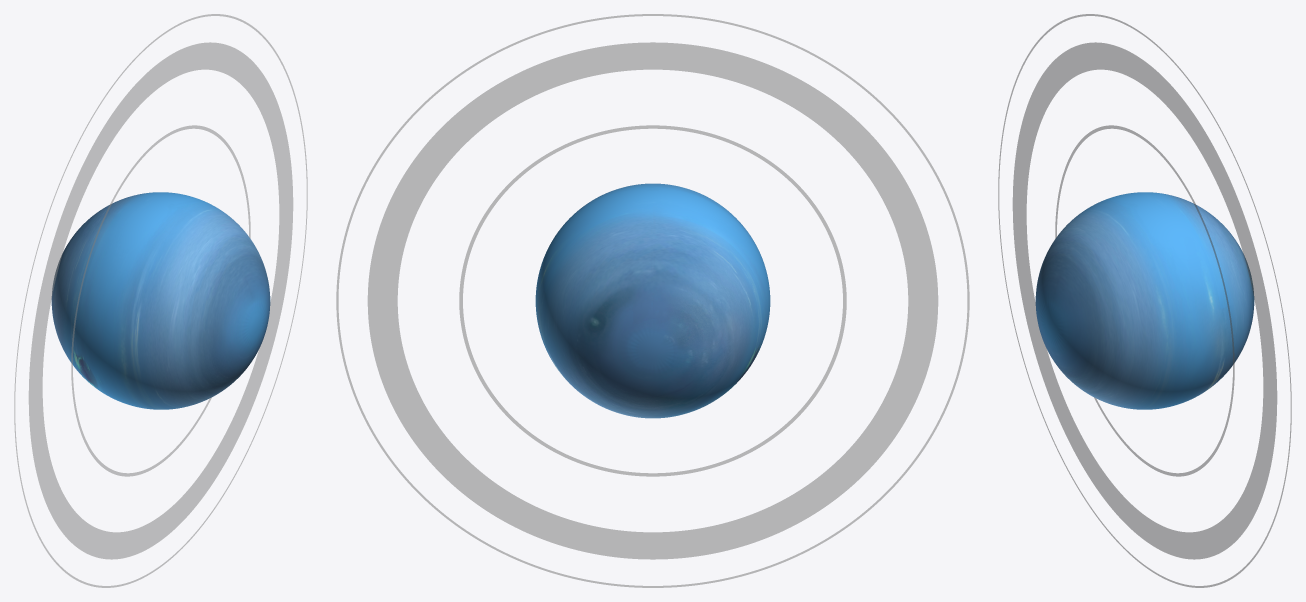
File: 13908_Neptune_V2_l3.obj
The picture shows the model from 3 angles, left to right: view 1: azimuth 30°, elevation 25°; view 2: azimuth 150°, elevation 25°; view 3: azimuth 270°, elevation 25°; orthographic projection. The views are drawn at different scales.
Visible parts, largest first — view 1: 13908_Neptune_planet, 13908_Neptune_ring; view 2: 13908_Neptune_ring, 13908_Neptune_planet; view 3: 13908_Neptune_planet, 13908_Neptune_ring.
Part boxes in pixels (x1=…): 13908_Neptune_planet: x1=51, y1=192, x2=270, y2=409; 13908_Neptune_ring: x1=14, y1=14, x2=307, y2=587; 13908_Neptune_ring: x1=336, y1=14, x2=969, y2=587; 13908_Neptune_planet: x1=535, y1=183, x2=770, y2=418; 13908_Neptune_planet: x1=1035, y1=192, x2=1254, y2=409; 13908_Neptune_ring: x1=998, y1=14, x2=1291, y2=587.
Size of the model in its own units: 849 by 980 by 490.
Materials: 2 (1 with a texture image).
